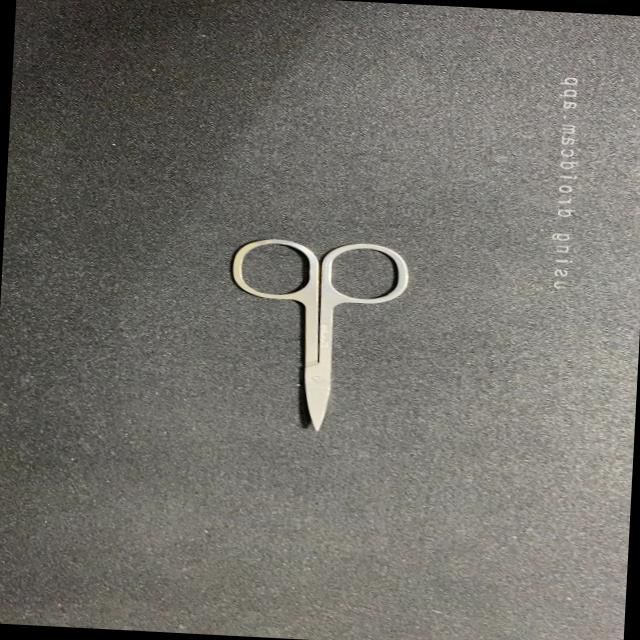scissor: (208, 232, 416, 438)
